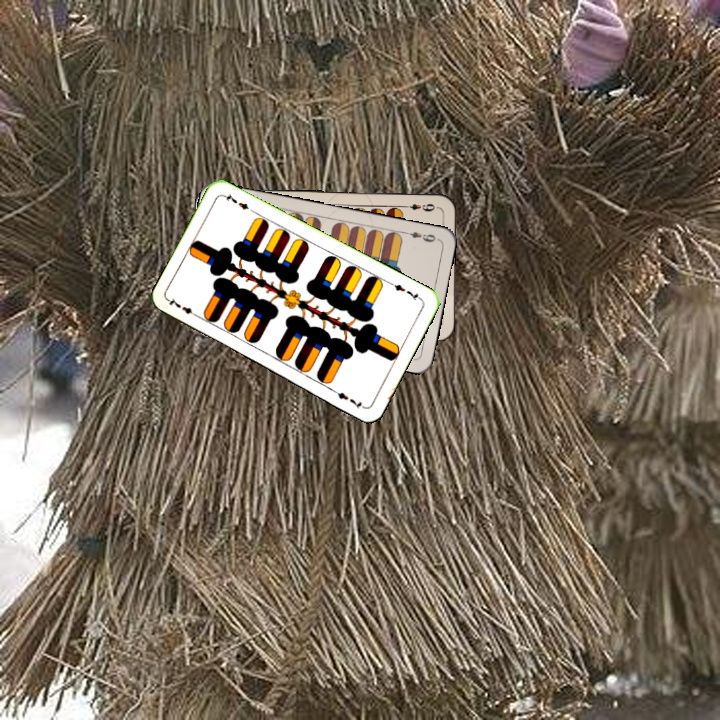E7: (165, 294, 202, 320), (386, 279, 424, 303)
E9: (400, 227, 438, 245), (399, 200, 439, 214)
